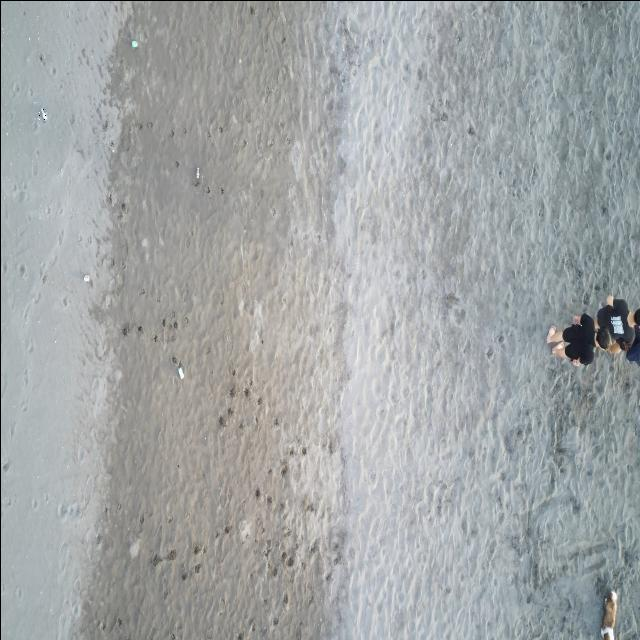Garbage: (192, 167, 200, 186), (37, 107, 47, 120), (176, 366, 183, 379), (131, 39, 138, 48), (195, 167, 199, 179), (83, 273, 88, 281)
